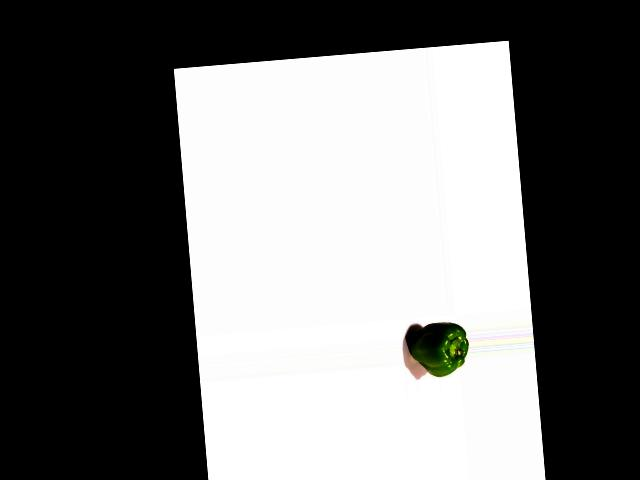bell_pepper: (405, 319, 470, 381)
